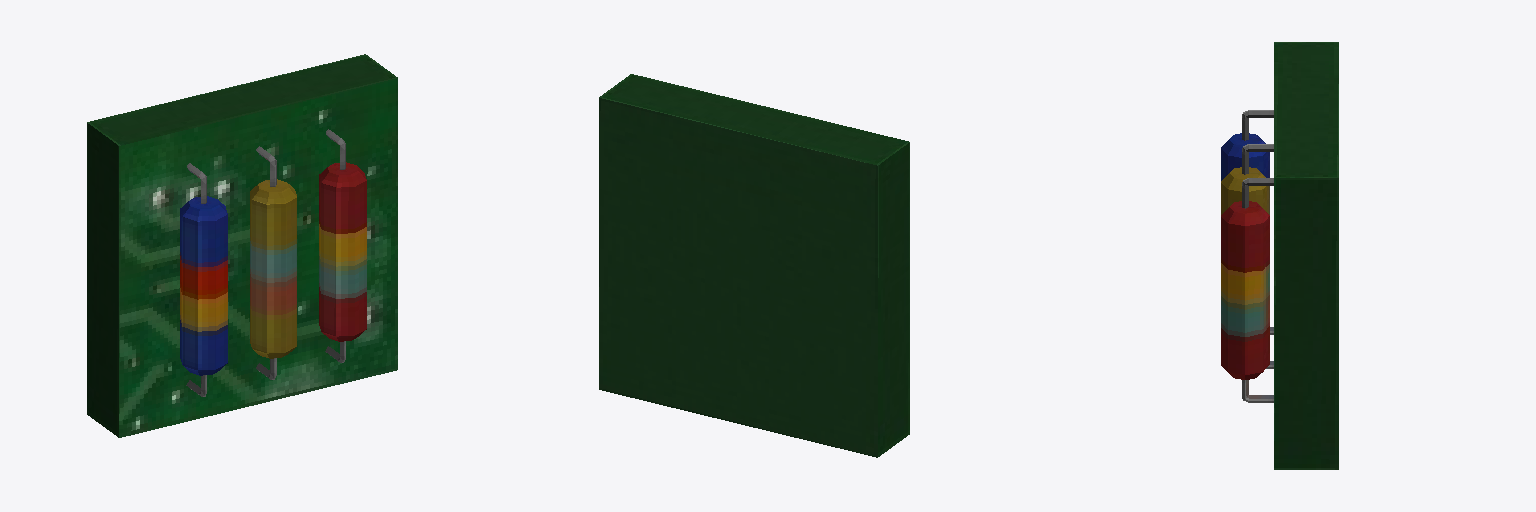
3 renders of one model, left to right at view 1: azimuth 30°, elevation 25°; view 2: azimuth 150°, elevation 25°; view 3: azimuth 270°, elevation 25°, orthographic.
Parts seen in each view (by area): view 1: Object08; view 2: Object08; view 3: Object08.
Boxes of the visible parts, <box> form: Object08: <box>87,54,397,437</box>; Object08: <box>599,74,909,457</box>; Object08: <box>1221,42,1338,469</box>.
Size of the model in its own units: 20.04 by 20.04 by 7.39.
Materials: 1 (1 with a texture image).